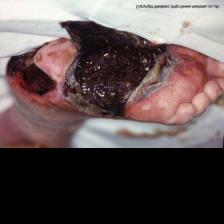Wound: (60, 16, 177, 120), (5, 38, 58, 99)
